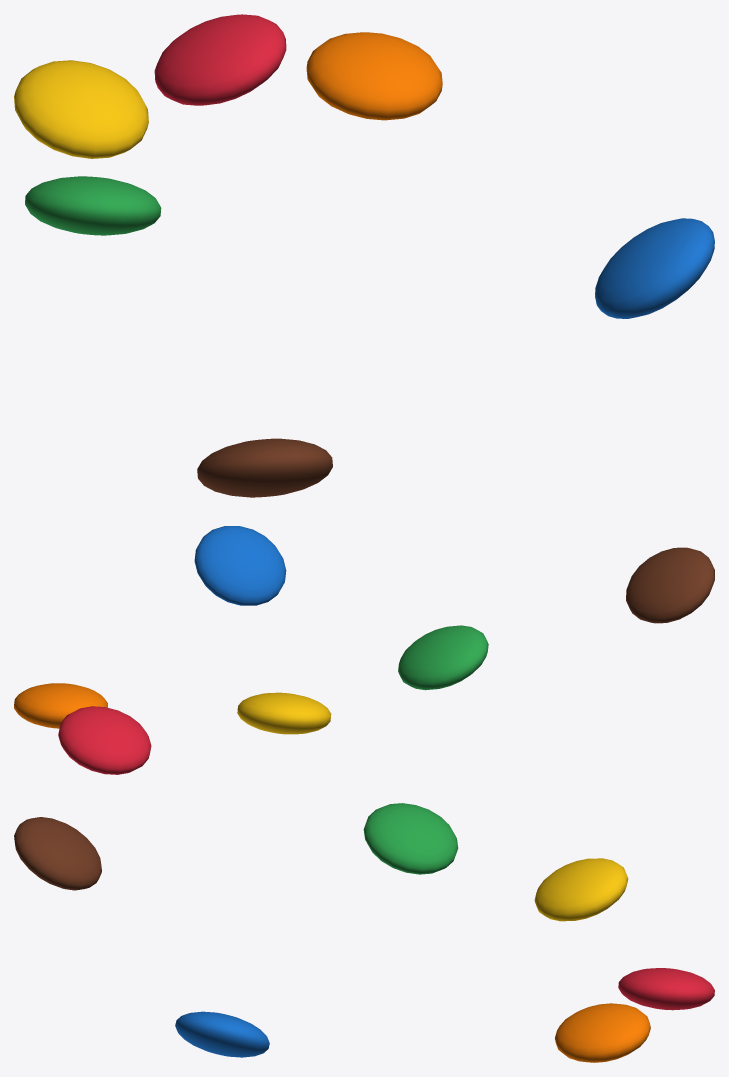
The model's file is _pedacos_confete.glb.
3 renders of one model, top to bottom at view 1: azimuth 30°, elevation 25°; view 2: azimuth 150°, elevation 25°; view 3: azimuth 270°, elevation 25°, orthographic. The views are drawn at different scales.
Visible parts, largest first — view 1: _pedacos_confete_1, _pedacos_confete_4, _pedacos_confete_0, _pedacos_confete_2, _pedacos_confete_3, _pedacos_confete_5; view 2: _pedacos_confete_2, _pedacos_confete_5, _pedacos_confete_0, _pedacos_confete_3, _pedacos_confete_1, _pedacos_confete_4; view 3: _pedacos_confete_3, _pedacos_confete_5, _pedacos_confete_1, _pedacos_confete_4, _pedacos_confete_0, _pedacos_confete_2.
Part boxes in pixels (x1=…): _pedacos_confete_1: x1=14, y1=60, x2=148, y2=158; _pedacos_confete_4: x1=306, y1=32, x2=442, y2=120; _pedacos_confete_0: x1=154, y1=14, x2=286, y2=105; _pedacos_confete_2: x1=595, y1=218, x2=714, y2=318; _pedacos_confete_3: x1=25, y1=176, x2=161, y2=235; _pedacos_confete_5: x1=197, y1=438, x2=332, y2=497; _pedacos_confete_2: x1=194, y1=526, x2=286, y2=605; _pedacos_confete_5: x1=626, y1=547, x2=714, y2=623; _pedacos_confete_0: x1=58, y1=706, x2=151, y2=774; _pedacos_confete_3: x1=398, y1=625, x2=488, y2=690; _pedacos_confete_1: x1=237, y1=692, x2=331, y2=734; _pedacos_confete_4: x1=14, y1=683, x2=107, y2=728; _pedacos_confete_3: x1=363, y1=803, x2=458, y2=874; _pedacos_confete_5: x1=14, y1=817, x2=101, y2=890; _pedacos_confete_1: x1=534, y1=858, x2=628, y2=921; _pedacos_confete_4: x1=555, y1=1003, x2=650, y2=1062; _pedacos_confete_0: x1=618, y1=968, x2=714, y2=1010; _pedacos_confete_2: x1=175, y1=1011, x2=269, y2=1057.
Bounding box in the file's own units: 0.5988 × 0.1305 × 0.8335.
1 material, 1 textured.
